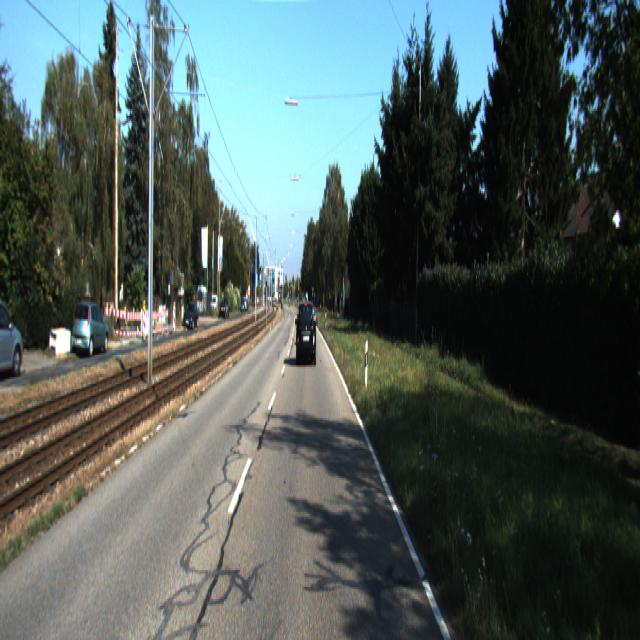Car: (72, 302, 110, 360), (0, 291, 23, 381), (296, 300, 316, 367), (183, 301, 199, 330)
